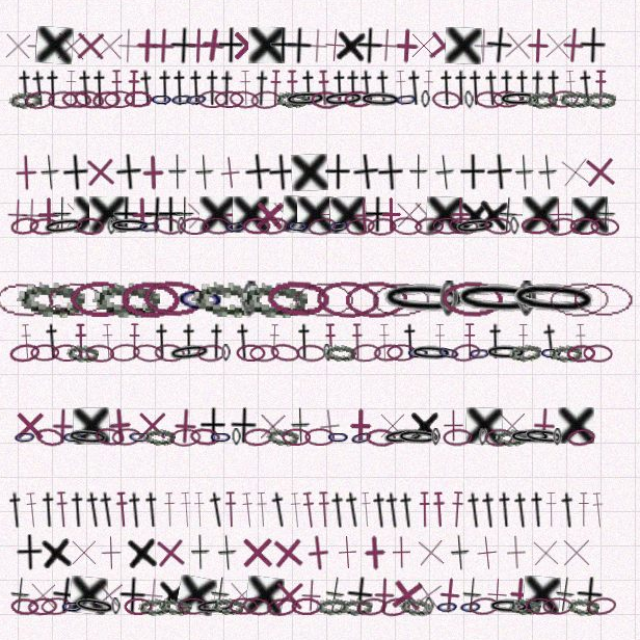chain: (504, 271, 594, 311), (380, 272, 469, 310), (451, 272, 540, 310), (32, 272, 98, 309), (200, 272, 266, 309), (105, 273, 170, 309), (247, 273, 312, 309), (320, 272, 381, 310), (9, 272, 69, 310), (153, 272, 214, 309), (272, 272, 333, 309), (60, 272, 119, 309), (348, 273, 408, 309), (372, 273, 432, 309), (441, 273, 501, 309), (543, 273, 603, 309), (298, 273, 357, 309), (566, 273, 626, 308), (132, 273, 190, 309), (83, 273, 142, 308), (184, 272, 234, 309), (85, 575, 129, 598), (56, 210, 99, 232), (177, 332, 220, 353), (383, 413, 426, 434), (518, 413, 561, 434), (452, 211, 495, 231), (79, 414, 122, 434), (202, 577, 245, 597), (325, 89, 368, 108), (289, 89, 331, 108), (361, 90, 403, 108), (410, 334, 452, 352), (397, 415, 439, 433), (485, 578, 527, 596), (247, 273, 267, 309), (495, 90, 537, 107), (120, 212, 162, 229), (482, 334, 524, 351), (505, 415, 547, 432), (505, 332, 538, 353), (39, 88, 70, 110), (381, 576, 412, 598), (49, 413, 79, 435), (86, 88, 117, 109), (24, 332, 55, 353), (275, 332, 306, 353), (449, 332, 480, 353), (106, 413, 137, 434), (248, 576, 279, 597), (24, 89, 56, 109), (400, 577, 432, 597), (25, 210, 55, 231), (162, 210, 192, 231), (439, 273, 457, 308), (514, 273, 532, 308), (580, 576, 610, 597), (541, 211, 572, 231), (143, 333, 174, 353), (272, 414, 304, 433), (169, 577, 201, 596), (320, 577, 352, 596), (236, 89, 266, 109), (431, 89, 461, 109), (311, 211, 341, 231), (348, 211, 378, 231), (272, 577, 302, 597), (359, 577, 389, 597), (392, 211, 423, 230), (104, 89, 133, 109), (561, 414, 590, 434), (343, 578, 375, 596), (351, 413, 377, 435), (543, 89, 573, 108), (210, 211, 240, 230), (264, 211, 294, 230), (447, 211, 477, 230), (121, 333, 151, 352), (164, 333, 194, 352), (353, 333, 383, 352), (375, 333, 405, 352), (123, 414, 153, 433), (198, 414, 228, 433), (249, 414, 279, 433), (42, 577, 72, 596), (55, 577, 85, 596), (467, 577, 497, 596), (522, 90, 553, 108), (578, 90, 609, 108), (80, 334, 111, 352), (545, 334, 576, 352), (179, 415, 210, 433), (492, 415, 523, 433), (149, 578, 180, 596), (562, 578, 593, 596), (88, 211, 117, 230), (481, 211, 510, 230), (435, 332, 461, 353), (257, 90, 287, 108), (281, 90, 312, 107), (554, 90, 585, 107), (328, 334, 359, 351), (154, 415, 185, 432), (220, 578, 251, 595), (506, 578, 537, 595), (62, 90, 91, 108), (75, 90, 104, 108), (315, 90, 344, 108), (473, 90, 502, 108), (44, 212, 73, 230), (369, 212, 398, 230), (256, 334, 285, 352), (301, 334, 330, 352), (577, 334, 606, 352), (368, 415, 397, 433), (442, 415, 471, 433), (415, 212, 443, 230), (584, 212, 612, 230), (98, 334, 126, 352), (205, 334, 233, 352), (561, 334, 589, 352), (482, 415, 510, 433), (26, 578, 54, 596), (116, 90, 145, 107), (206, 90, 235, 107), (222, 90, 251, 107), (432, 212, 461, 229), (517, 212, 546, 229), (564, 212, 593, 229), (243, 334, 272, 351), (388, 334, 417, 351), (309, 415, 338, 432), (187, 578, 216, 595), (296, 578, 325, 595), (521, 578, 550, 595), (538, 578, 567, 595), (135, 90, 163, 107), (347, 90, 375, 107), (490, 90, 518, 107), (189, 212, 217, 229), (249, 212, 277, 229), (45, 334, 73, 351), (66, 334, 94, 351), (287, 415, 315, 432), (135, 578, 163, 595), (236, 578, 264, 595), (179, 89, 203, 108), (193, 89, 217, 108), (395, 89, 419, 108), (330, 211, 354, 230), (28, 414, 52, 433), (138, 414, 162, 433), (148, 212, 172, 230), (231, 212, 255, 230), (457, 578, 481, 596), (466, 334, 489, 352), (435, 578, 458, 596), (160, 90, 183, 107), (291, 212, 314, 229), (407, 334, 430, 351), (535, 334, 558, 351), (75, 415, 98, 432), (217, 415, 240, 432), (330, 415, 353, 432), (74, 578, 97, 595), (462, 90, 473, 108), (326, 334, 337, 351), (506, 212, 516, 229), (476, 415, 486, 432), (424, 578, 434, 595), (421, 90, 430, 107), (119, 212, 128, 229), (186, 212, 195, 229), (229, 334, 238, 351), (239, 415, 248, 432), (431, 415, 440, 432), (548, 415, 557, 432), (123, 578, 132, 595)
half_double: (213, 475, 237, 512), (273, 475, 297, 512), (344, 475, 368, 512), (95, 475, 118, 512), (108, 475, 131, 512), (383, 476, 406, 512), (43, 70, 65, 106), (257, 70, 279, 106), (535, 314, 557, 350), (331, 476, 353, 512), (371, 476, 393, 512), (397, 476, 419, 512), (462, 476, 484, 512), (476, 476, 498, 512), (507, 476, 529, 512), (552, 476, 574, 512), (147, 70, 168, 106), (224, 70, 245, 106), (523, 70, 544, 106), (21, 476, 42, 512), (136, 476, 157, 512), (30, 70, 51, 105), (88, 70, 109, 105), (210, 70, 231, 105), (359, 70, 380, 105), (405, 70, 426, 105), (479, 70, 500, 105), (570, 70, 591, 105), (56, 314, 77, 349), (214, 314, 235, 349), (240, 314, 261, 349), (152, 476, 173, 511), (492, 476, 513, 511), (523, 476, 544, 511), (57, 70, 77, 105), (102, 70, 122, 105), (165, 70, 185, 105), (179, 70, 199, 105), (195, 70, 215, 105), (303, 70, 323, 105), (333, 70, 353, 105), (346, 70, 366, 105), (375, 70, 395, 105), (436, 70, 456, 105), (450, 70, 470, 105), (464, 70, 484, 105), (494, 70, 514, 105), (509, 70, 529, 105), (539, 70, 559, 105), (162, 314, 182, 349), (188, 314, 208, 349), (299, 314, 319, 349), (401, 314, 421, 349), (483, 314, 503, 349), (53, 476, 73, 511), (81, 476, 101, 511), (38, 476, 55, 512), (246, 476, 263, 512), (305, 476, 322, 512), (293, 476, 309, 512), (584, 476, 600, 512), (68, 476, 84, 511), (187, 476, 203, 511), (448, 476, 464, 511), (558, 70, 573, 105), (34, 314, 49, 349), (112, 314, 127, 349), (126, 476, 141, 511), (261, 476, 276, 511), (361, 476, 376, 511), (431, 476, 446, 511), (77, 70, 91, 105), (245, 70, 259, 105), (274, 70, 288, 105), (321, 70, 335, 105), (395, 70, 409, 105), (587, 70, 601, 105), (273, 314, 287, 349), (327, 314, 341, 349), (353, 314, 367, 349), (379, 314, 393, 349), (461, 314, 475, 349), (568, 314, 582, 349), (172, 476, 186, 511), (201, 476, 215, 511), (231, 476, 245, 511), (321, 476, 335, 511), (122, 70, 135, 105), (138, 70, 151, 105), (291, 70, 304, 105), (422, 70, 435, 105), (87, 314, 100, 349), (139, 314, 152, 349), (433, 314, 446, 349), (513, 314, 526, 349), (418, 476, 431, 511), (540, 476, 553, 511), (571, 476, 584, 511)
noise: (0, 368, 11, 383)
single: (185, 556, 225, 596), (202, 27, 241, 66), (550, 149, 589, 188), (388, 556, 427, 595), (408, 556, 447, 595), (424, 28, 462, 66), (218, 150, 256, 188), (314, 394, 352, 432), (161, 516, 199, 554), (274, 516, 312, 554), (303, 516, 341, 554), (466, 516, 504, 554), (82, 557, 120, 595), (144, 557, 182, 595), (252, 557, 290, 595), (430, 557, 468, 595), (50, 28, 87, 65), (320, 28, 357, 65), (369, 28, 406, 65), (496, 28, 533, 65), (549, 28, 586, 65), (94, 150, 131, 187), (575, 150, 612, 187), (287, 191, 324, 228), (113, 394, 150, 431), (521, 394, 558, 431), (332, 516, 369, 553), (412, 516, 449, 553), (494, 516, 531, 553), (102, 557, 139, 594), (230, 557, 267, 594), (476, 557, 513, 594), (498, 557, 535, 594), (519, 557, 556, 594), (15, 29, 51, 65), (33, 29, 69, 65), (66, 29, 102, 65), (85, 29, 121, 65), (103, 29, 139, 65), (121, 29, 157, 65), (140, 29, 176, 65), (155, 29, 191, 65), (189, 29, 225, 65), (303, 29, 339, 65), (389, 29, 425, 65), (444, 29, 480, 65), (463, 29, 499, 65), (516, 29, 552, 65), (535, 29, 571, 65), (23, 151, 59, 187), (145, 151, 181, 187), (296, 151, 332, 187), (15, 192, 51, 228), (28, 192, 64, 228), (191, 192, 227, 228), (257, 192, 293, 228), (333, 192, 369, 228), (348, 192, 384, 228), (409, 192, 445, 228), (426, 192, 462, 228), (566, 192, 602, 228), (58, 395, 94, 431), (86, 395, 122, 431), (176, 395, 212, 431), (260, 395, 296, 431), (464, 395, 500, 431), (105, 517, 141, 553), (359, 517, 395, 553), (523, 517, 559, 553), (39, 558, 75, 594), (276, 558, 312, 594), (297, 558, 333, 594), (368, 558, 404, 594), (53, 516, 88, 553), (337, 28, 371, 65), (474, 191, 508, 228), (136, 516, 170, 553), (237, 29, 272, 64), (255, 29, 290, 64), (406, 29, 441, 64), (45, 192, 80, 227), (74, 192, 109, 227), (87, 192, 122, 227), (102, 192, 137, 227), (135, 192, 170, 227), (208, 192, 243, 227), (223, 192, 258, 227), (240, 192, 275, 227), (273, 192, 308, 227), (302, 192, 337, 227), (316, 192, 351, 227), (375, 192, 410, 227), (392, 192, 427, 227), (442, 192, 477, 227), (504, 192, 539, 227), (519, 192, 554, 227), (536, 192, 571, 227), (552, 192, 587, 227), (27, 395, 62, 430), (145, 395, 180, 430), (345, 395, 380, 430), (376, 395, 411, 430), (435, 395, 470, 430), (491, 395, 526, 430), (553, 395, 588, 430), (79, 517, 114, 552), (246, 517, 281, 552), (385, 517, 420, 552), (553, 517, 588, 552), (457, 192, 490, 228), (63, 557, 94, 595), (409, 395, 441, 430), (167, 558, 199, 593), (481, 28, 511, 65), (249, 150, 279, 187), (353, 150, 383, 187), (347, 557, 377, 594), (568, 557, 598, 594), (125, 150, 154, 187), (482, 150, 511, 187), (74, 151, 103, 187), (272, 151, 301, 187), (377, 151, 406, 187), (178, 29, 206, 65), (289, 29, 317, 65), (357, 29, 385, 65), (152, 192, 180, 228), (129, 558, 157, 594), (572, 29, 600, 64), (236, 395, 264, 430), (30, 517, 58, 552), (224, 29, 251, 64), (274, 29, 301, 64), (327, 151, 354, 186), (457, 151, 484, 186), (123, 192, 150, 227), (166, 192, 193, 227), (365, 192, 392, 227), (207, 395, 234, 430), (327, 557, 350, 594), (217, 557, 239, 594), (549, 557, 571, 594), (54, 151, 75, 187), (434, 151, 455, 187), (533, 151, 554, 187), (25, 558, 46, 594), (460, 558, 481, 594), (203, 151, 223, 187), (511, 151, 531, 187), (495, 192, 515, 228), (225, 517, 245, 553), (449, 517, 469, 553), (590, 192, 609, 227), (296, 395, 315, 430), (178, 151, 196, 186), (410, 151, 428, 186), (67, 192, 85, 227), (185, 192, 203, 227), (200, 517, 218, 552)
